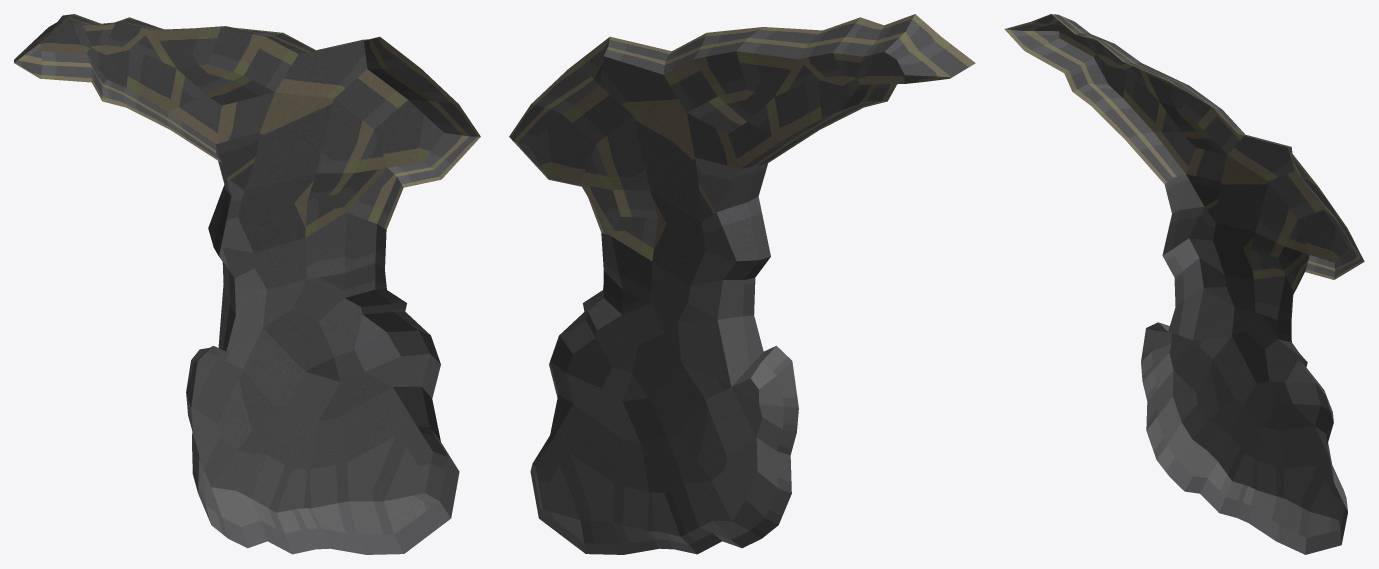
The model's file is island_7_0.fbx.
3 views of the same model, side by side, from view 1: azimuth 30°, elevation 25°; view 2: azimuth 150°, elevation 25°; view 3: azimuth 330°, elevation 25° (orthographic). The views are drawn at different scales.
Parts seen in each view (by area): view 1: Circle.018; view 2: Circle.018; view 3: Circle.018.
Part boxes in pixels (box(x1,y1,x2,y2)): Circle.018: box(14, 14, 480, 554); Circle.018: box(509, 14, 975, 554); Circle.018: box(1004, 14, 1364, 554).
Bounding box in the file's own units: 14231 × 18072 × 1294.
